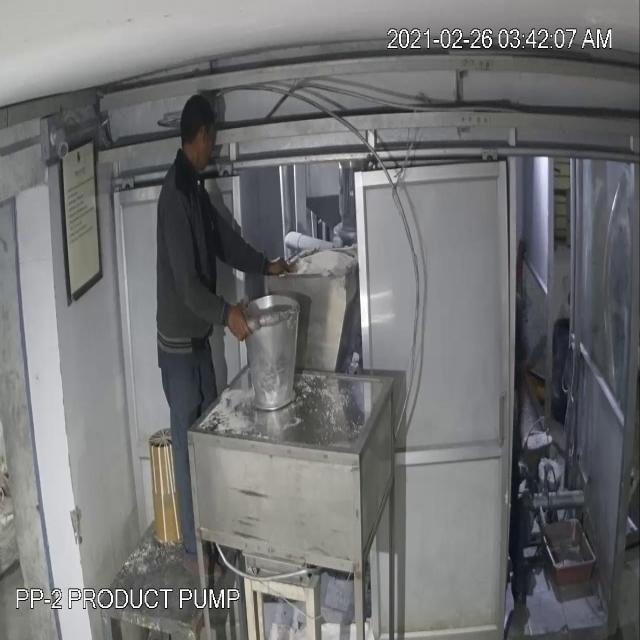no-helmet: (177, 88, 219, 183)
